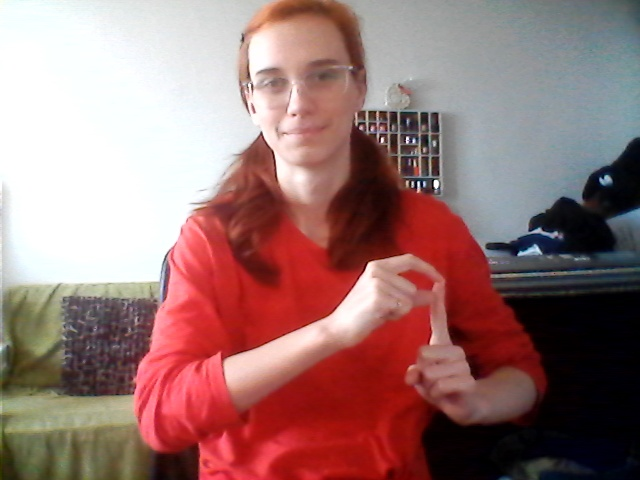p: (335, 248, 476, 429)
